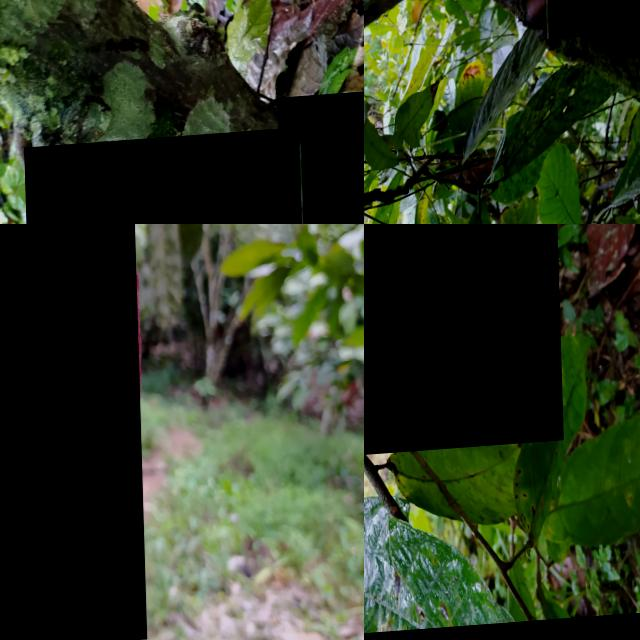Fitoftora: (0, 224, 143, 640), (364, 224, 560, 471), (22, 132, 302, 224)
Monilia: (276, 87, 364, 224)
